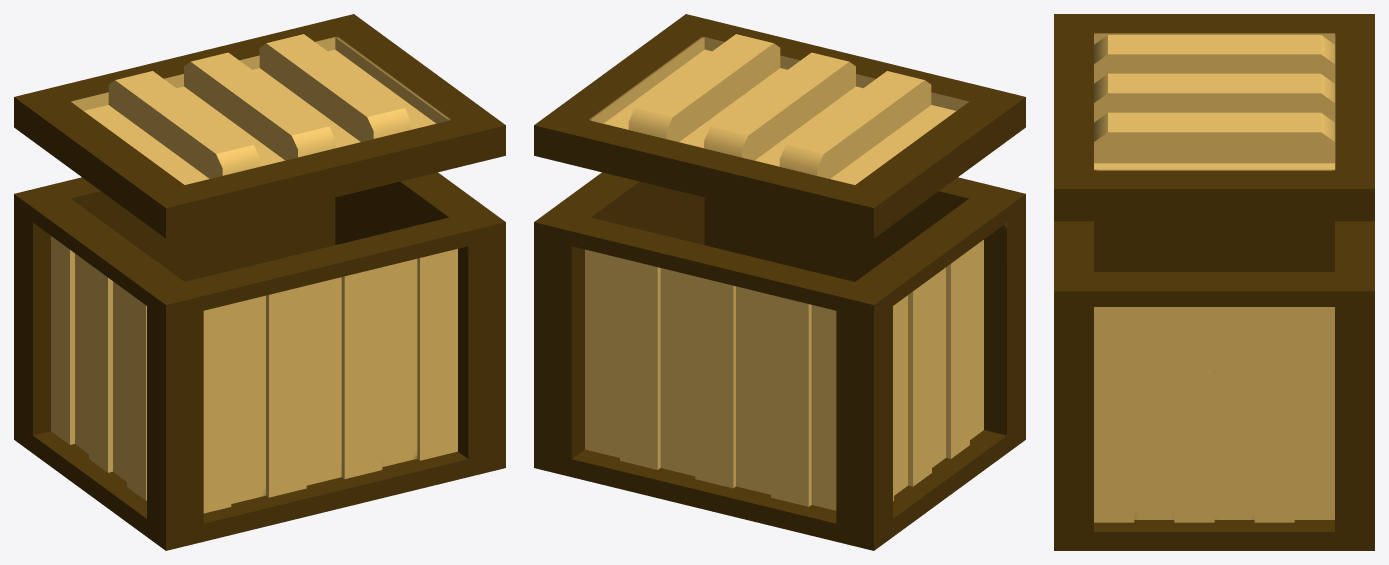
3 renders of one model, left to right at view 1: azimuth 30°, elevation 25°; view 2: azimuth 150°, elevation 25°; view 3: azimuth 270°, elevation 25°, orthographic. The views are drawn at different scales.
Parts seen in each view (by area): view 1: pCube1, pasted__pCube1; view 2: pCube1, pasted__pCube1; view 3: pCube1, pasted__pCube1.
Boxes of the visible parts, left/top/right/bottom form: pCube1: left=14, top=172, right=505, bottom=550; pasted__pCube1: left=14, top=14, right=505, bottom=238; pCube1: left=534, top=172, right=1025, bottom=550; pasted__pCube1: left=534, top=14, right=1025, bottom=238; pCube1: left=1054, top=221, right=1374, bottom=550; pasted__pCube1: left=1054, top=14, right=1374, bottom=221.
Size of the model in its own units: 3.3 by 3.34 by 2.56.
Materials: 1 (1 with a texture image).
